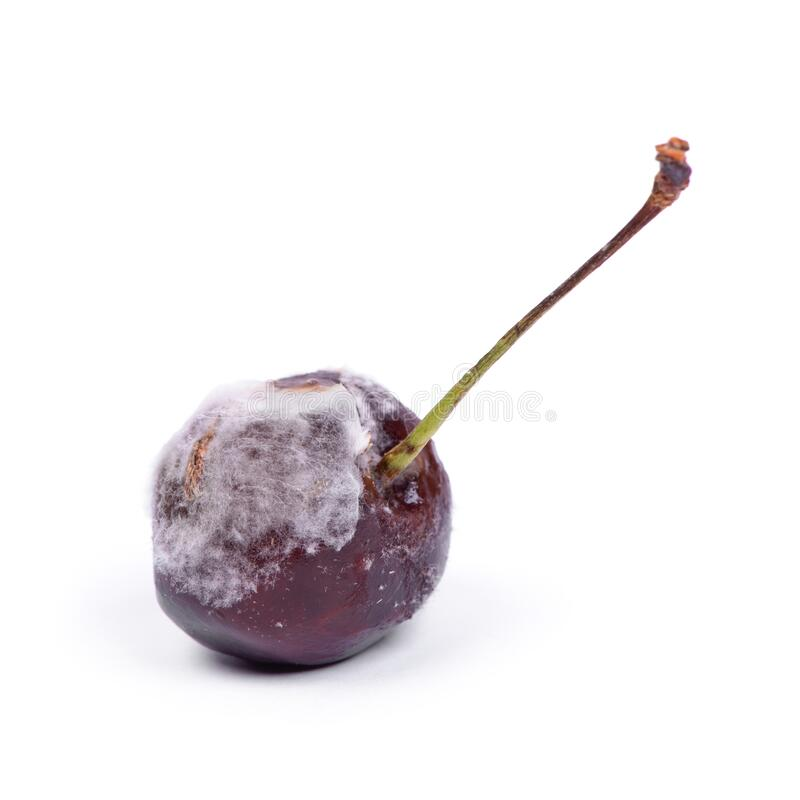cherry: (150, 370, 451, 671)
rotten: (154, 370, 407, 611)
